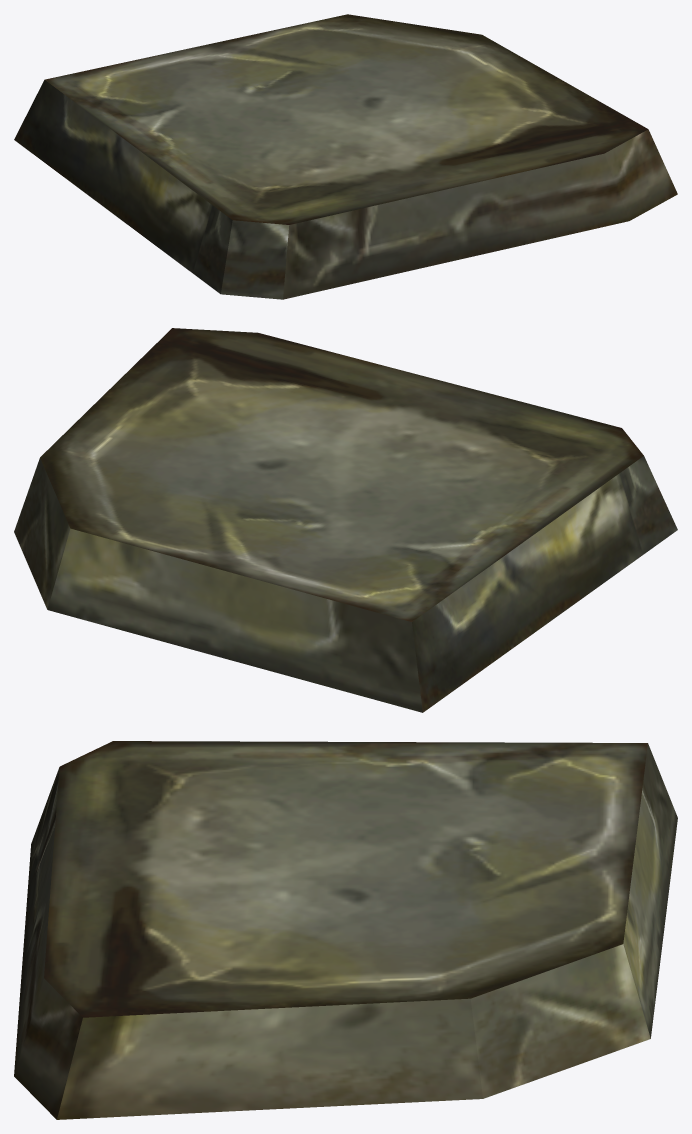
Rendered from C_dizhuan008.fbx.
3 views of the same model, one above another, from view 1: azimuth 30°, elevation 25°; view 2: azimuth 150°, elevation 25°; view 3: azimuth 270°, elevation 25° (orthographic). The views are drawn at different scales.
Visible parts, largest first — view 1: C_dizhuan008; view 2: C_dizhuan008; view 3: C_dizhuan008.
Part boxes in pixels (bbox=[...]): C_dizhuan008: bbox=[14, 14, 677, 299]; C_dizhuan008: bbox=[14, 328, 677, 712]; C_dizhuan008: bbox=[14, 741, 677, 1119].
Size of the model in its own units: 186 by 25.19 by 171.
